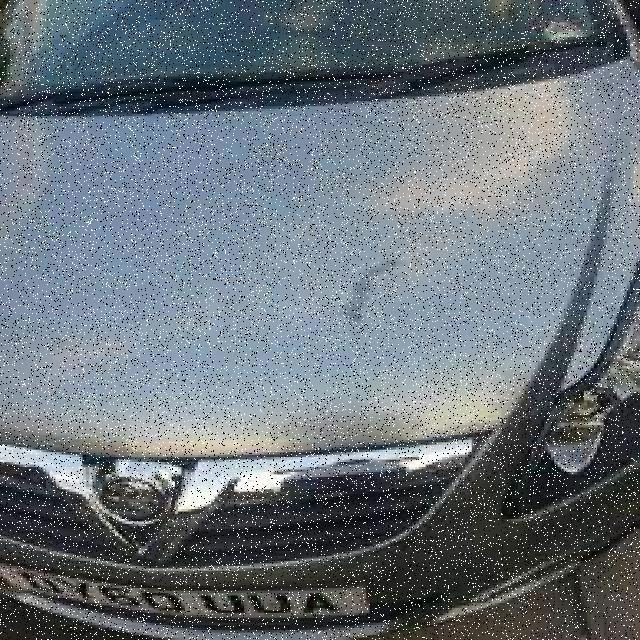car damage: (0, 93, 634, 495)
